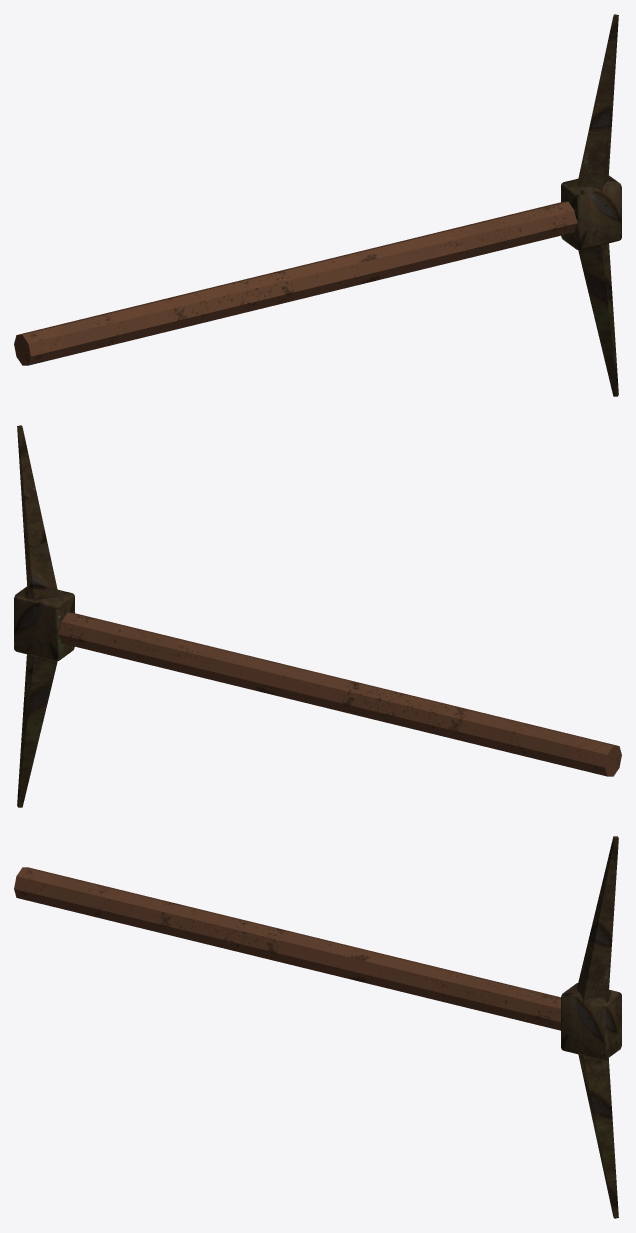
The model's file is held_tool_metal_pickaxe.glb.
The picture shows the model from 3 angles, top to bottom: view 1: azimuth 30°, elevation 25°; view 2: azimuth 150°, elevation 25°; view 3: azimuth 330°, elevation 25°; orthographic projection.
Visible parts, largest first — view 1: cyl, box, cyl.002, cyl.001; view 2: cyl, box, cyl.002, cyl.001; view 3: cyl, box, cyl.002, cyl.001.
Boxes of the visible parts, x1,y1,x2,y2 form: cyl: (14, 201, 577, 365); box: (561, 175, 621, 250); cyl.002: (577, 14, 618, 199); cyl.001: (578, 237, 618, 396); cyl: (58, 612, 621, 776); box: (14, 586, 74, 661); cyl.002: (17, 425, 58, 610); cyl.001: (17, 648, 57, 807); cyl: (14, 867, 560, 1030); box: (561, 983, 621, 1060); cyl.002: (577, 836, 618, 1009); cyl.001: (578, 1047, 618, 1218).
Size of the model in its own units: 0.6499 by 0.3969 by 0.036.
2 materials, 2 textured.
